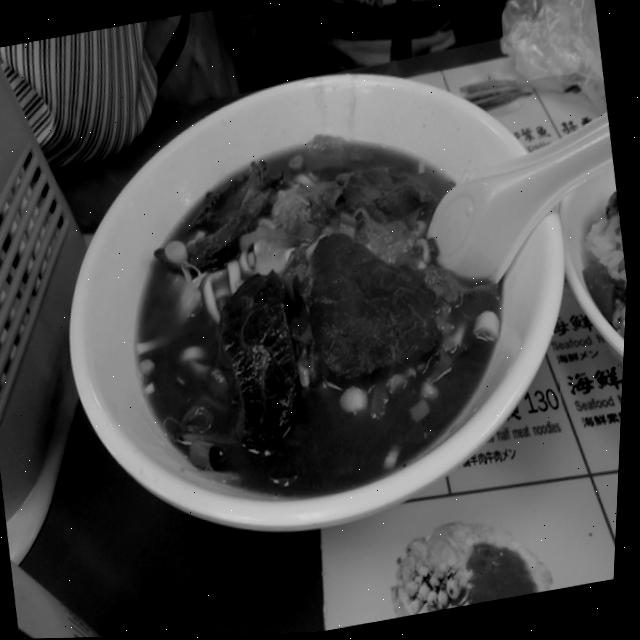面条主食: (76, 75, 562, 552)
